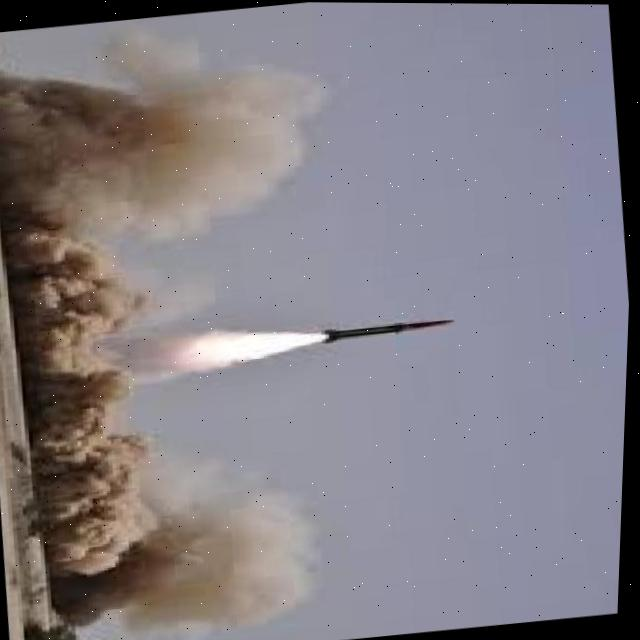missile: (315, 304, 455, 349)
